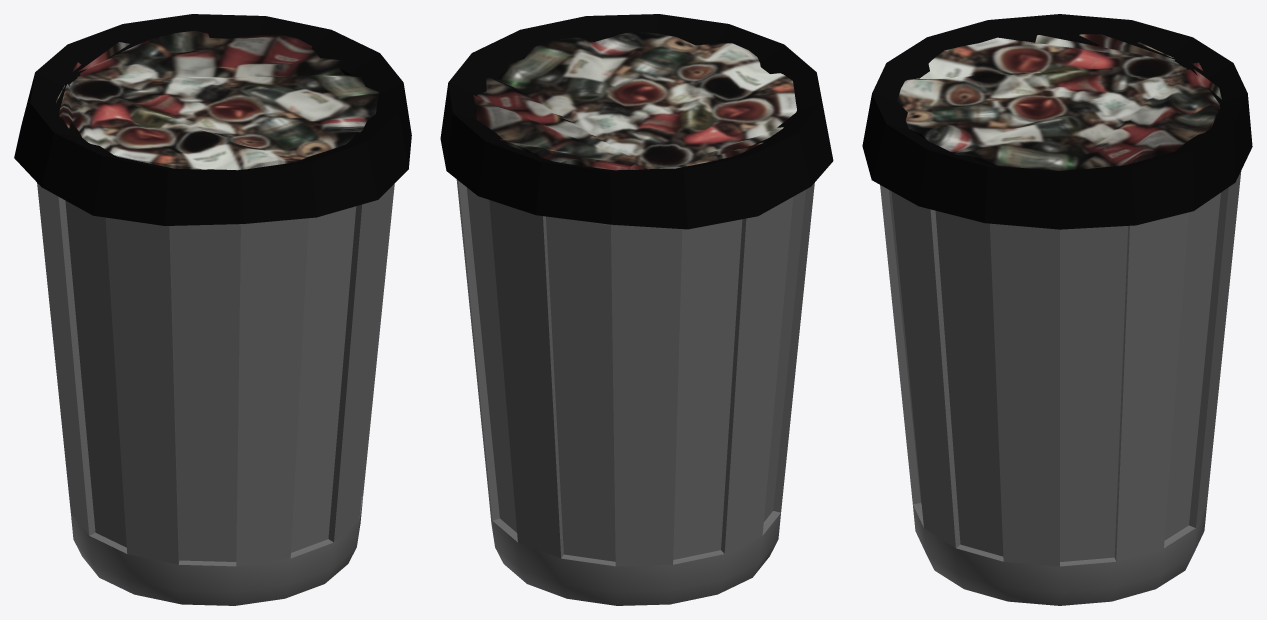
The model's file is GarbageBin.fbx.
3 renders of one model, left to right at view 1: azimuth 30°, elevation 25°; view 2: azimuth 150°, elevation 25°; view 3: azimuth 270°, elevation 25°, orthographic.
Visible parts, largest first — view 1: GarbageBin, GarbageBag, GarbageBin(%100); view 2: GarbageBin, GarbageBag, GarbageBin(%100); view 3: GarbageBin, GarbageBag, GarbageBin(%100).
Boxes of the visible parts, <box> form: GarbageBin: <box>37,183,394,605</box>; GarbageBag: <box>14,14,411,225</box>; GarbageBin(%100): <box>56,30,379,170</box>; GarbageBin: <box>456,179,814,605</box>; GarbageBag: <box>440,14,833,229</box>; GarbageBin(%100): <box>473,31,796,170</box>; GarbageBin: <box>880,171,1241,605</box>; GarbageBag: <box>862,14,1252,229</box>; GarbageBin(%100): <box>897,34,1221,170</box>.
Bounding box in the file's own units: 228 × 288 × 223.
Materials: 6 (4 with a texture image).
